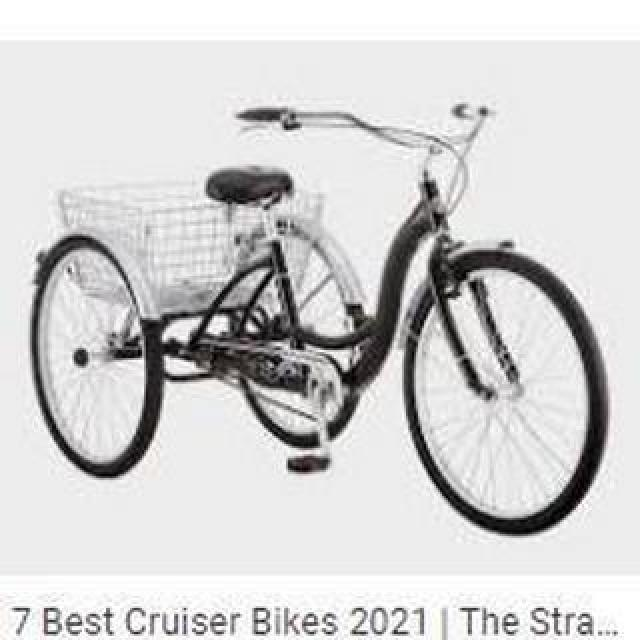Person: (27, 101, 607, 539)
